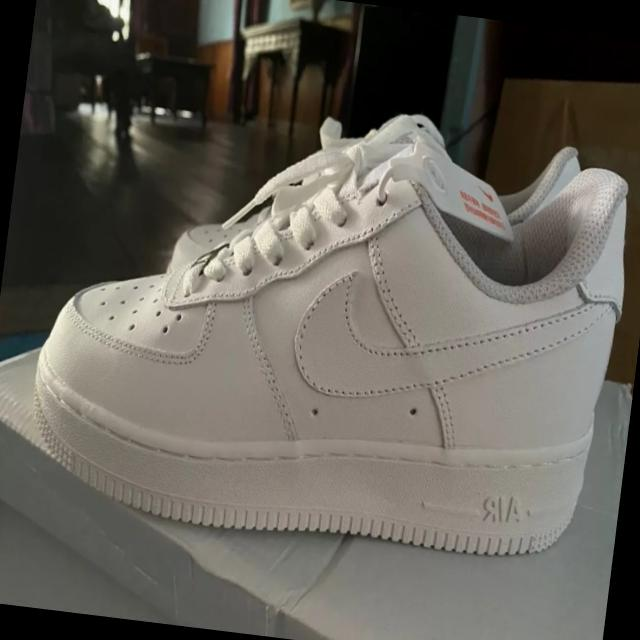nike_original_airforce: (0, 98, 639, 570)
